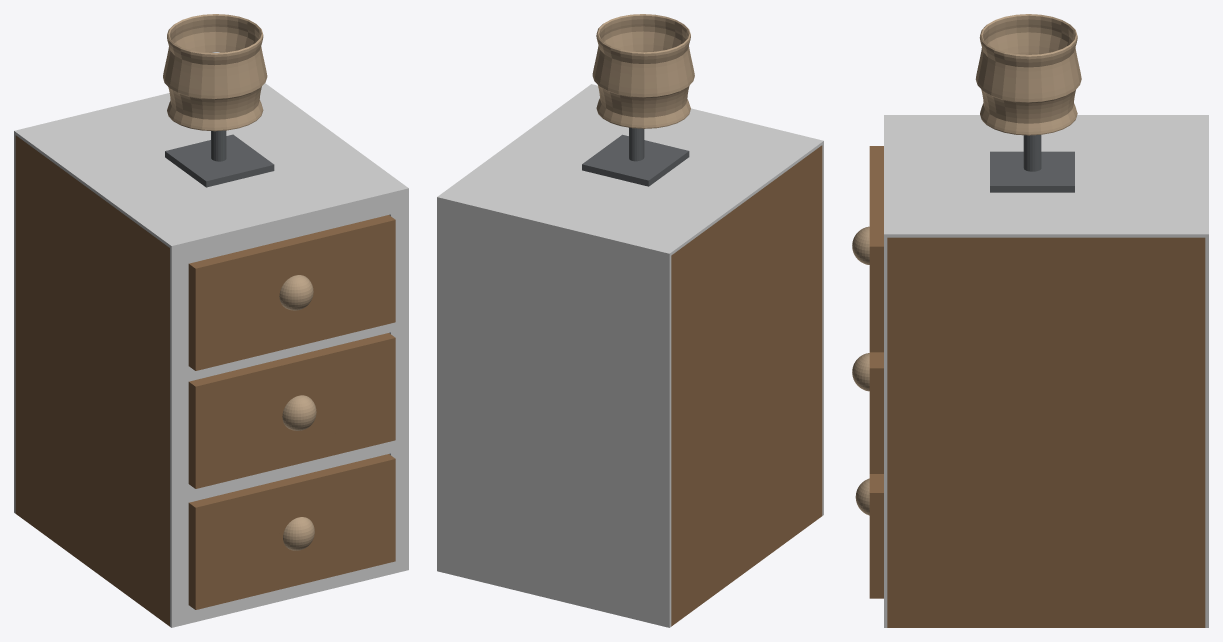
The model's file is Amazing Lappi.glb.
3 renders of one model, left to right at view 1: azimuth 30°, elevation 25°; view 2: azimuth 150°, elevation 25°; view 3: azimuth 270°, elevation 25°, orthographic. The views are drawn at different scales.
Parts seen in each view (by area): view 1: Mesh_Mesh_head_geo.001_lambert2SG.001; view 2: Mesh_Mesh_head_geo.001_lambert2SG.001; view 3: Mesh_Mesh_head_geo.001_lambert2SG.001.
Part boxes in pixels (<box>): Mesh_Mesh_head_geo.001_lambert2SG.001: <box>14,14,408,627</box>; Mesh_Mesh_head_geo.001_lambert2SG.001: <box>437,14,823,627</box>; Mesh_Mesh_head_geo.001_lambert2SG.001: <box>852,14,1208,627</box>.
Size of the model in its own units: 80 by 166 by 101.
